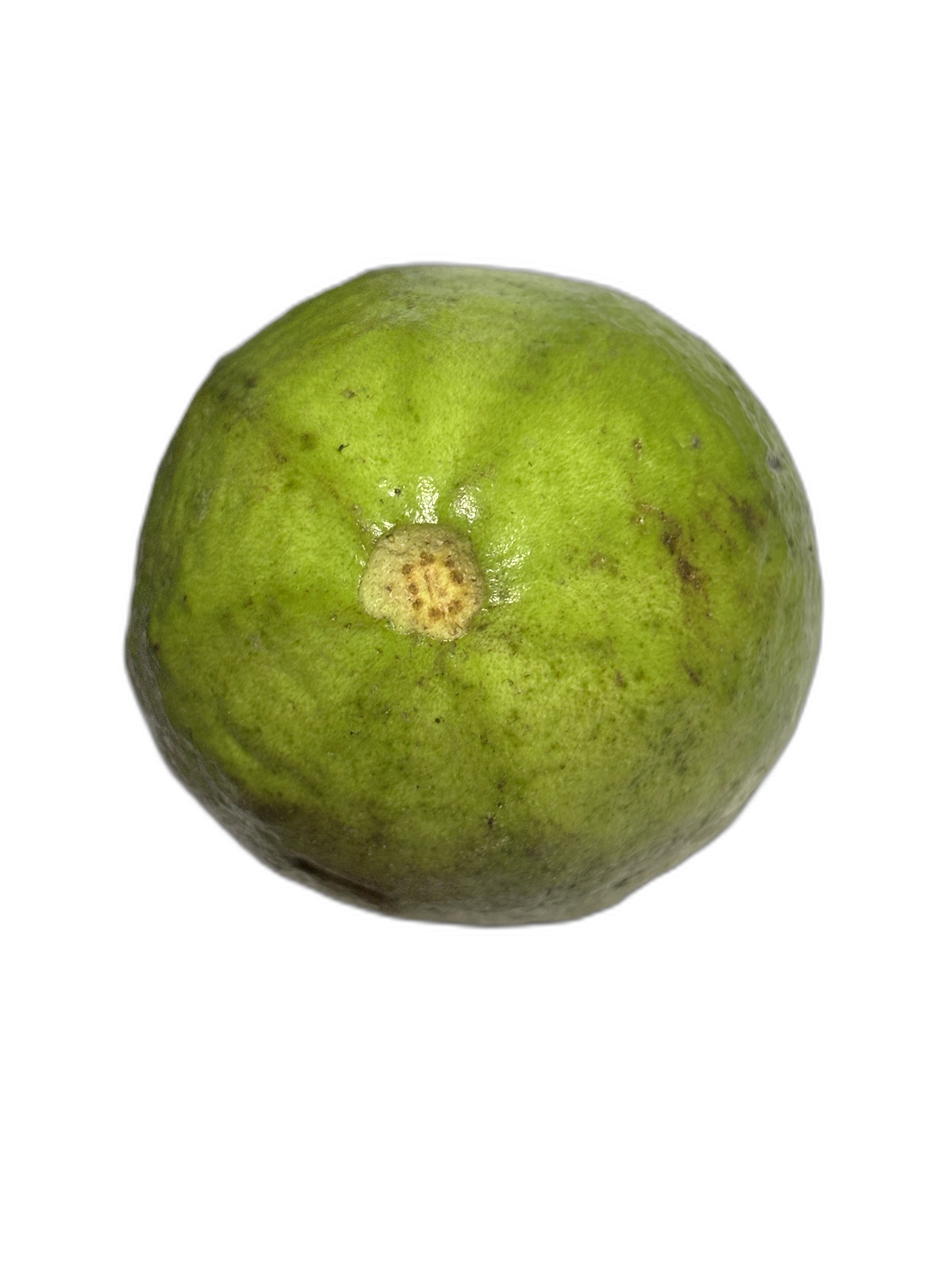guava: (77, 243, 728, 1232)
